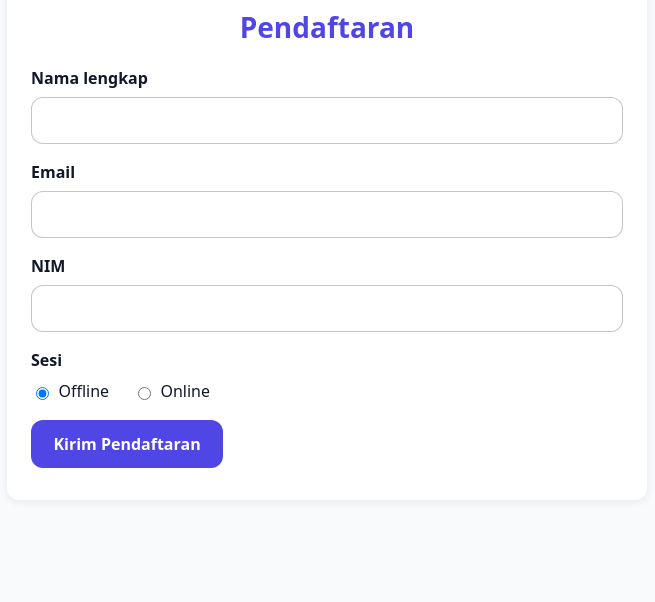
Test: Pendaftaran (LP-2) › clears errors only on the next submit for fields that became valid (LP2-AC-14)
Click the button "Kirim Pendaftaran". click: coordinates (127, 444)
box: [31,420,223,468]
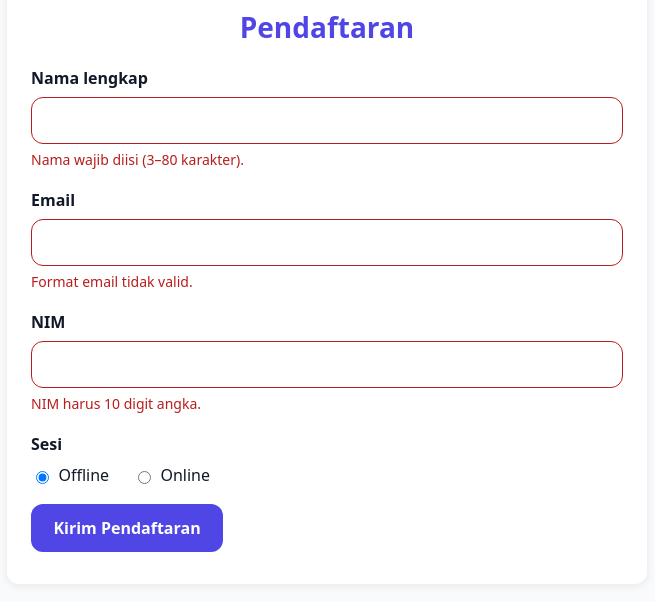
Expected: the text "Nama wajib diisi (3–80 karakter)." is shown, [31,150,244,169]
Type "Budi Santoso" into the field labelled "Nama lengkap". click: coordinates (327, 120)
box: [31,97,623,144]
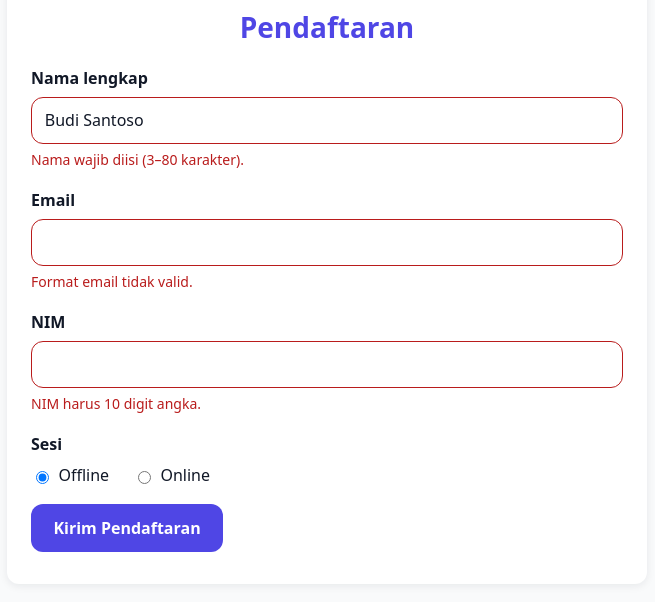
Expected: the text "Nama wajib diisi (3–80 karakter)." is shown, [31,150,244,169]
Click the button "Kirim Pendaftaran". click: coordinates (127, 528)
box: [31,504,223,552]
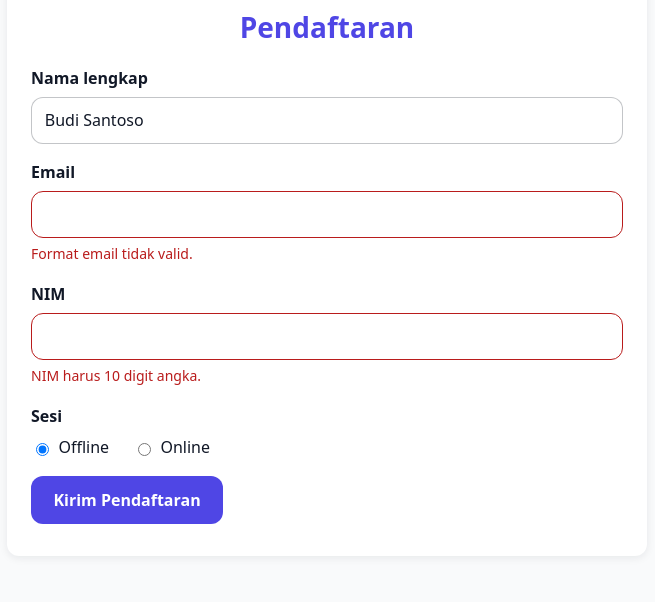
Expected: the text "Format email tidak valid." is shown, [31,244,193,263]
Expected: the text "NIM harus 10 digit angka." is shown, [31,366,201,385]
Expected: the text "Nama wajib diisi (3–80 karakter)." is gone
